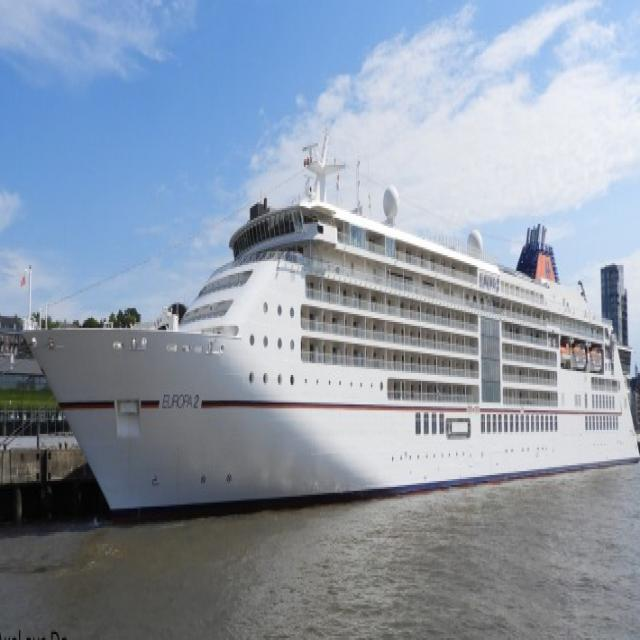cruises: (21, 124, 640, 531)
